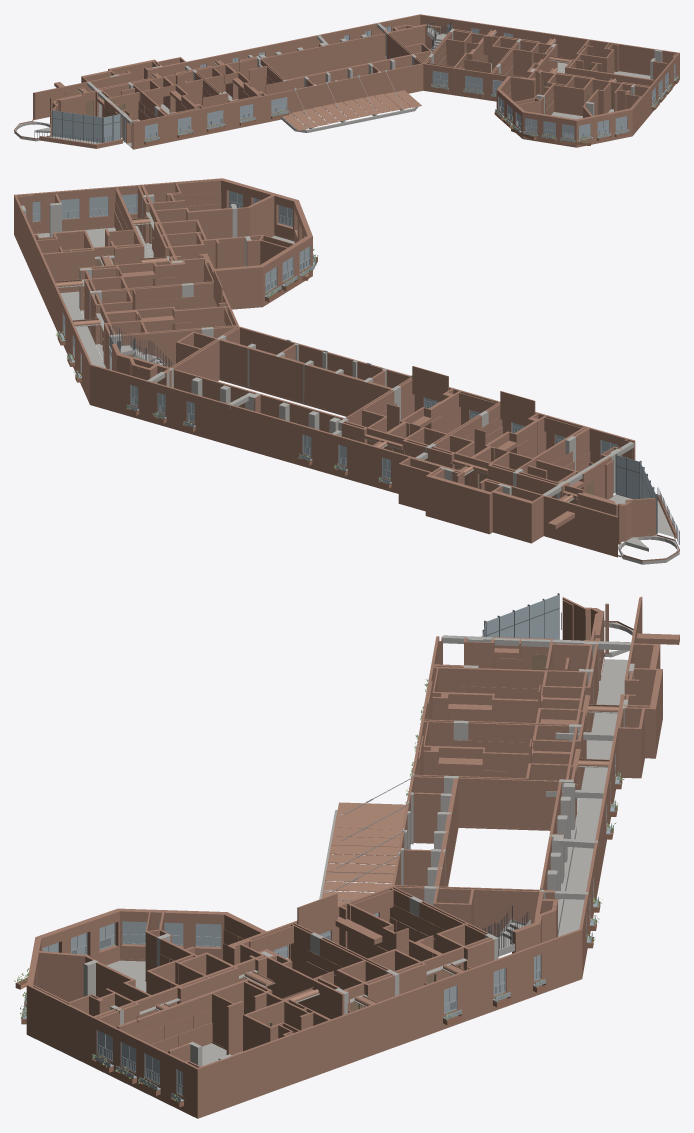
Rendered from revit_nivel_1.glb.
The picture shows the model from 3 angles, top to bottom: view 1: azimuth 30°, elevation 25°; view 2: azimuth 150°, elevation 25°; view 3: azimuth 270°, elevation 25°; orthographic projection. The views are drawn at different scales.
Visible parts, largest first — view 1: Revit_PISO 2; view 2: Revit_PISO 2; view 3: Revit_PISO 2.
Boxes of the visible parts, x1,y1,x2,y2 form: Revit_PISO 2: [14, 14, 679, 149]; Revit_PISO 2: [14, 178, 679, 564]; Revit_PISO 2: [14, 593, 679, 1118].
Bounding box in the file's own units: 64.73 × 4.25 × 36.65.
